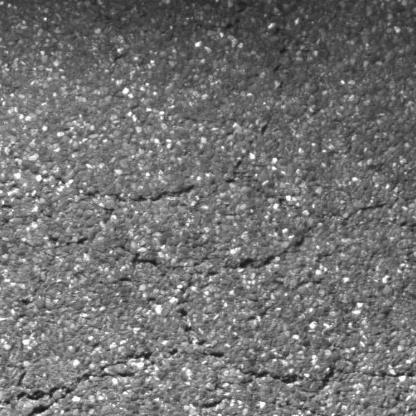Cracks: (173, 133, 393, 326), (20, 160, 204, 251), (0, 358, 142, 416), (228, 358, 416, 388), (110, 239, 176, 279)
